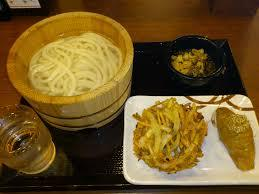kakiage: (133, 101, 203, 170)
kamaage: (10, 14, 127, 97)
